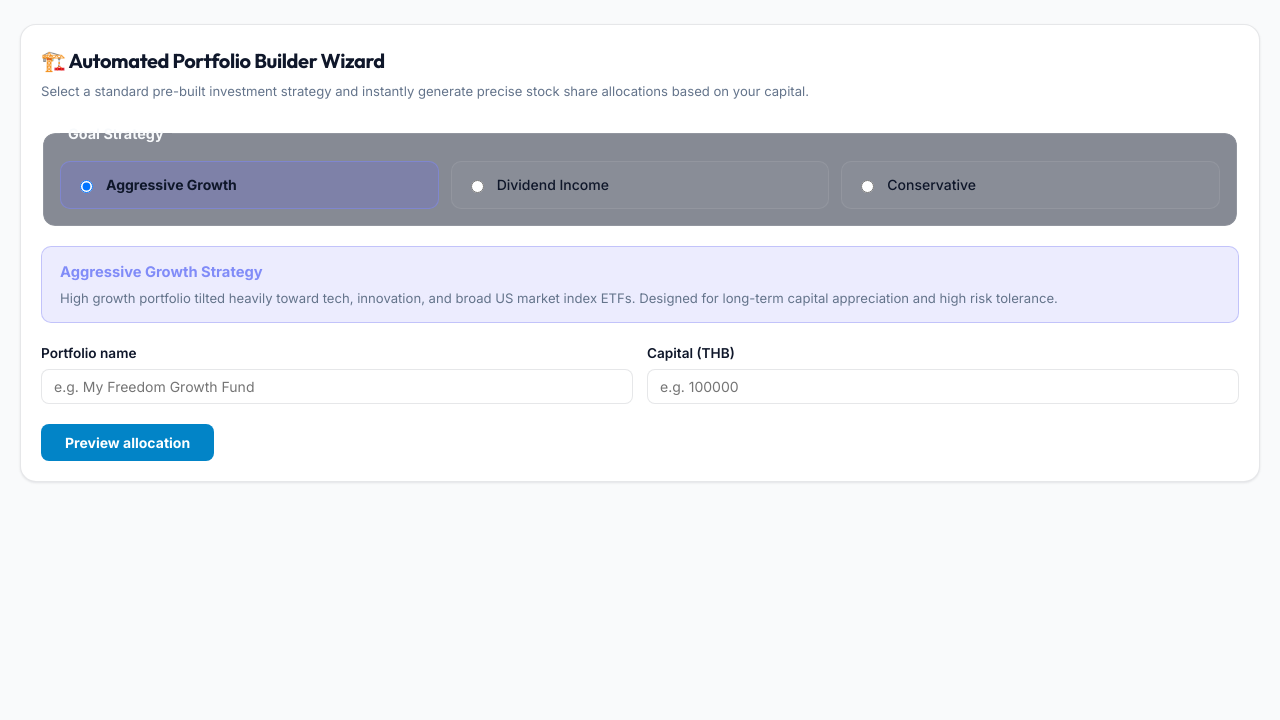
it: PortfolioBuilderWizard › shows an error and does not create a portfolio when the USD/THB rate cannot be fetched
Type "Test Portfolio" into the field labelled "Portfolio name".
click(337, 386); type("Test Portfolio")  # box [41, 369, 633, 404]
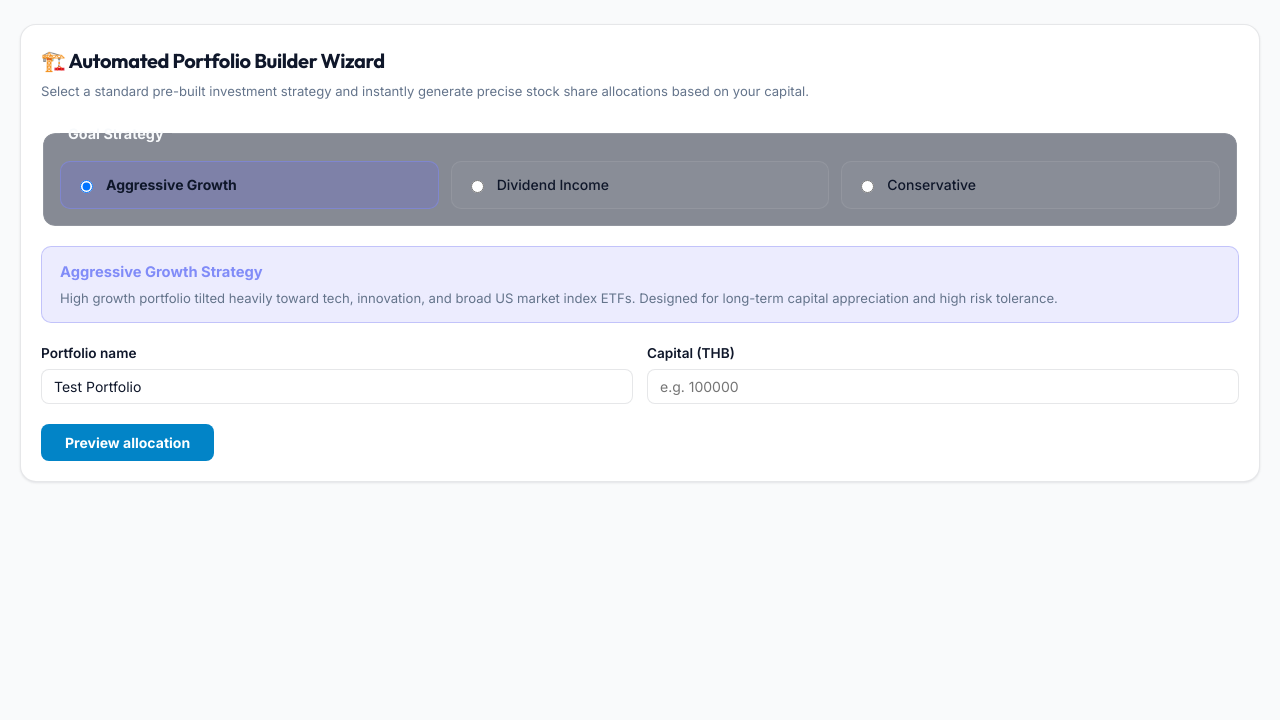
Type "105000" into the number field labelled "Capital (THB)".
click(943, 386); type("105000")  # box [647, 369, 1239, 404]
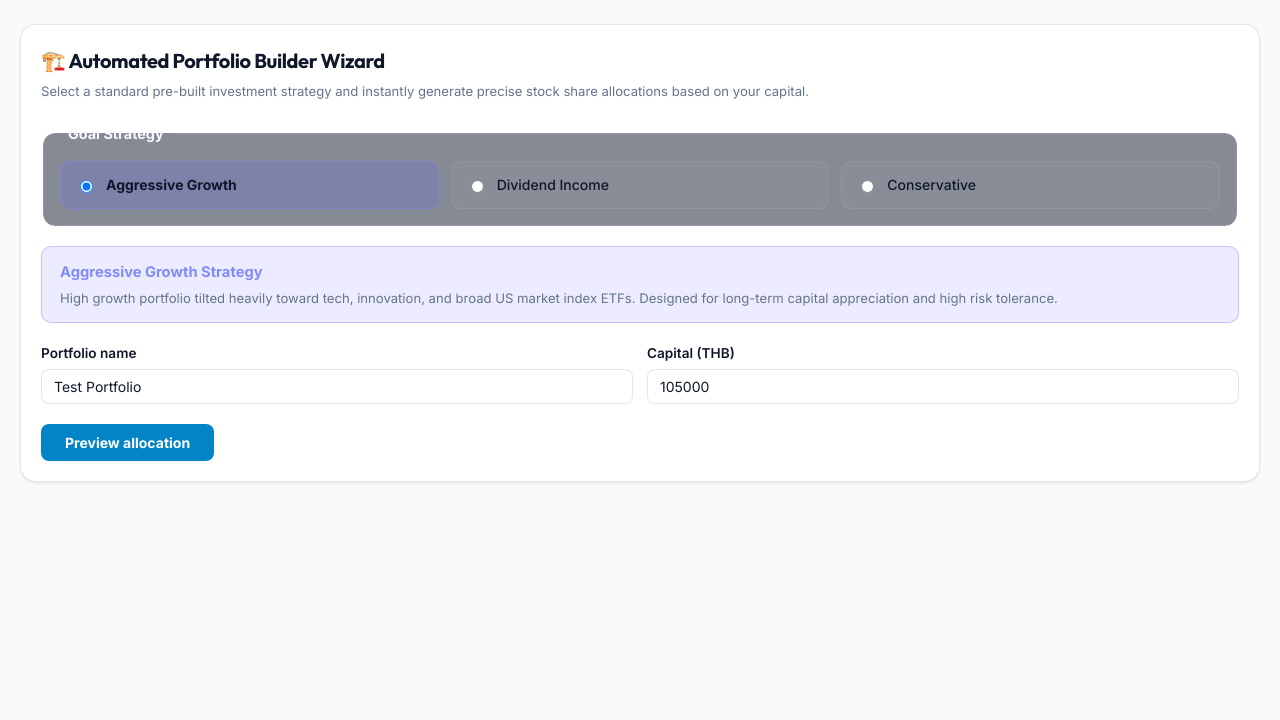
Click the button "Preview allocation".
click(128, 442)  # box [41, 424, 214, 461]
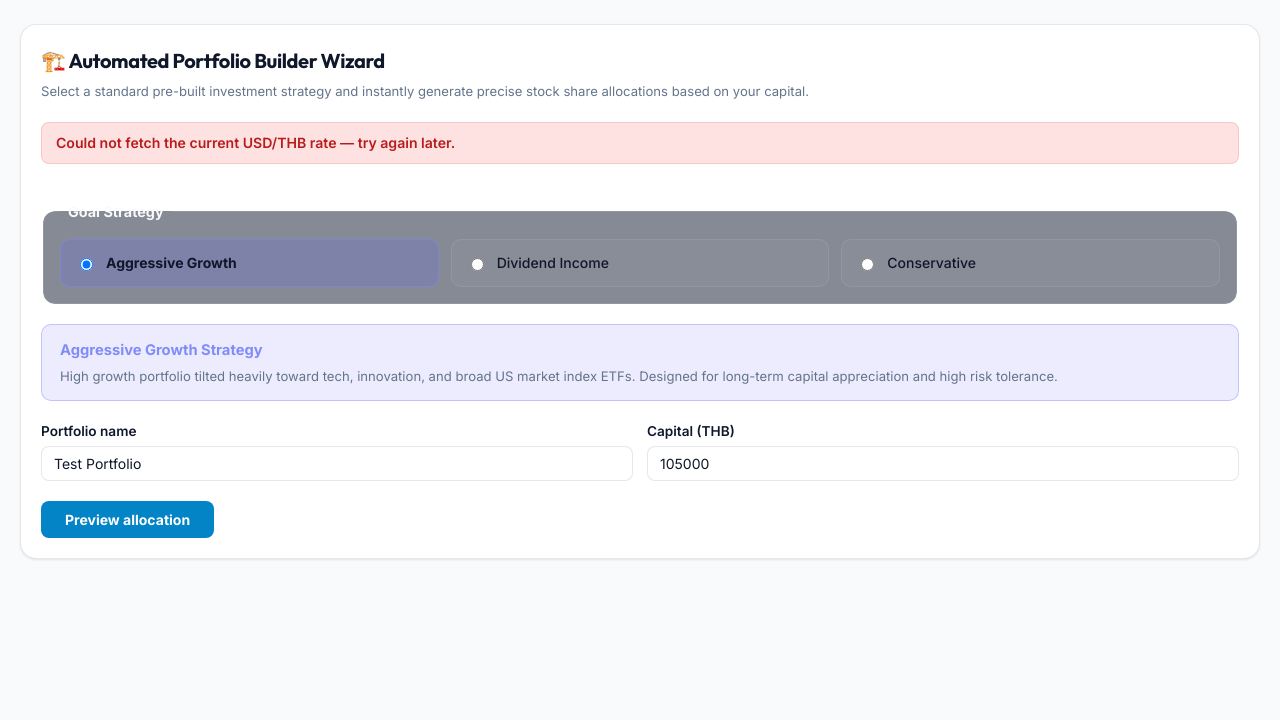
Check: the message shows "USD/THB rate", box [56, 134, 455, 151]
